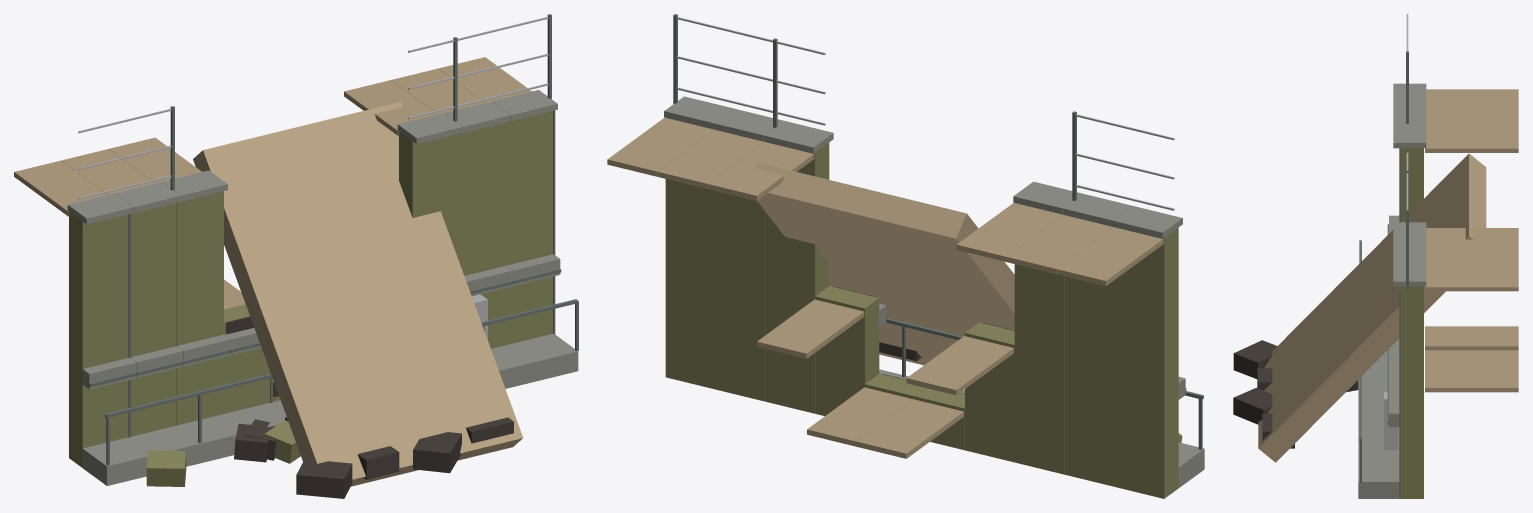
Rendered from SM_MuroRampa_v3_Pasillo_e3_Brecha_LOD0.fbx.
3 renders of one model, left to right at view 1: azimuth 30°, elevation 25°; view 2: azimuth 150°, elevation 25°; view 3: azimuth 270°, elevation 25°, orthographic. The views are drawn at different scales.
Visible parts, largest first — view 1: SM_muro_rampa_v15_LOD0; view 2: SM_muro_rampa_v15_LOD0; view 3: SM_muro_rampa_v15_LOD0.
Boxes of the visible parts, bbox=[...] form: SM_muro_rampa_v15_LOD0: bbox=[14, 14, 578, 498]; SM_muro_rampa_v15_LOD0: bbox=[607, 14, 1204, 498]; SM_muro_rampa_v15_LOD0: bbox=[1233, 14, 1518, 498].
Size of the model in its own units: 10.03 by 7.07 by 6.09.
